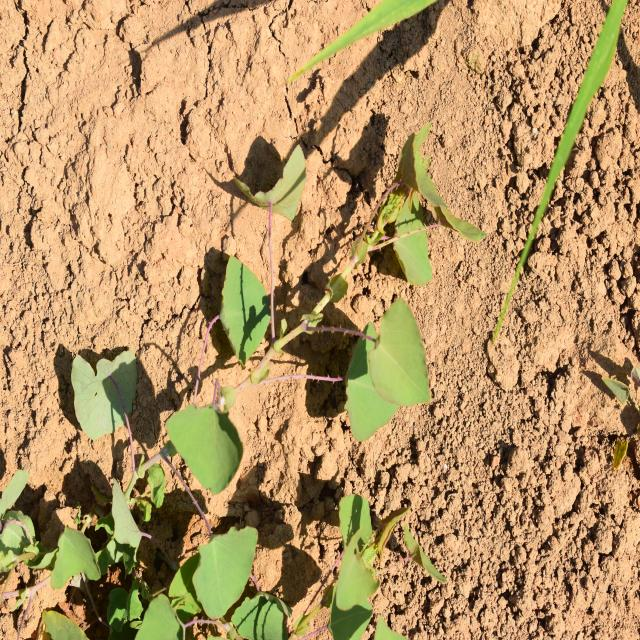Asiatic_Smartweed: (250, 132, 456, 444), (158, 372, 240, 502), (188, 523, 268, 623)
